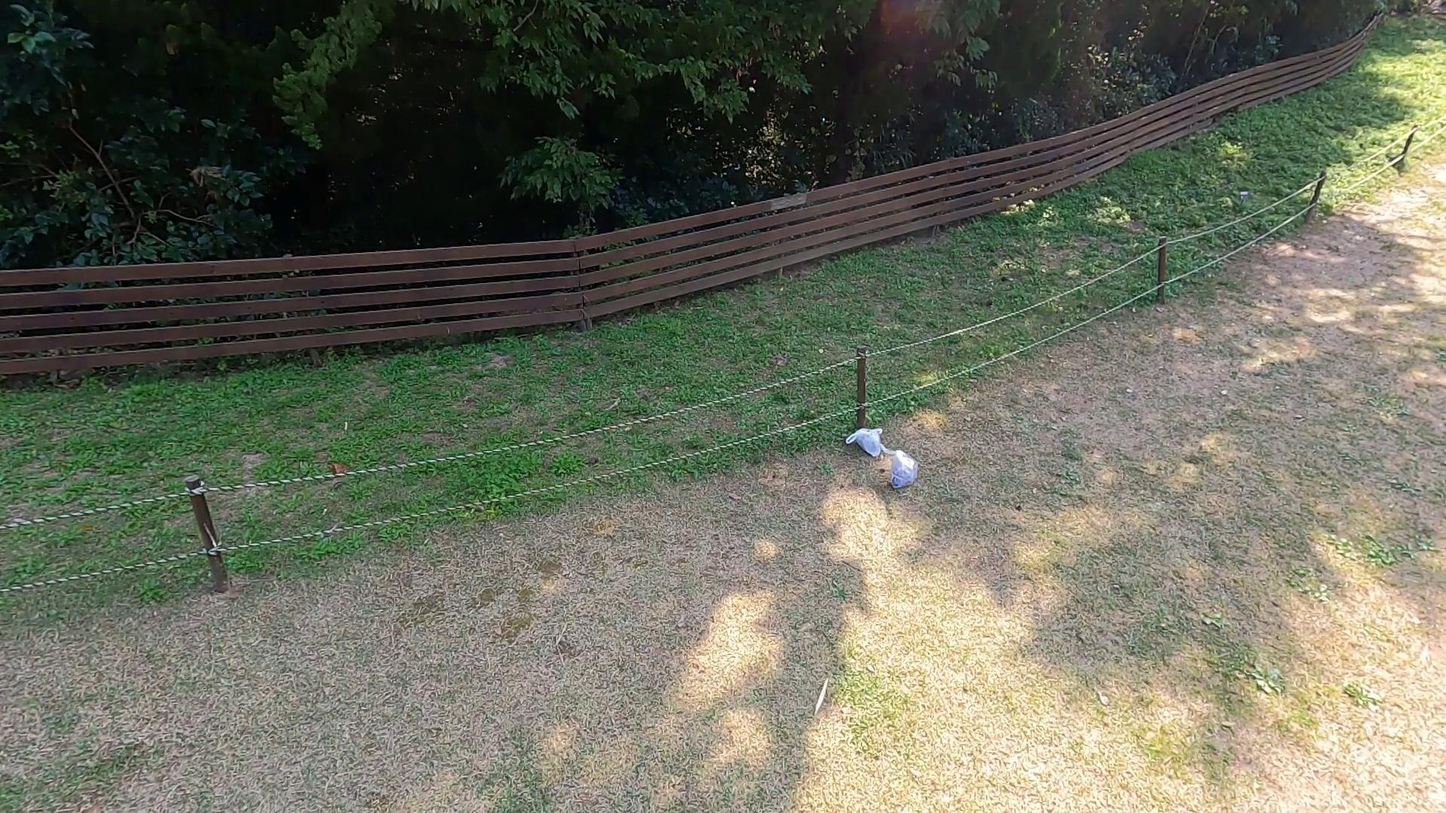trash: (882, 445, 918, 489), (847, 426, 890, 457)
